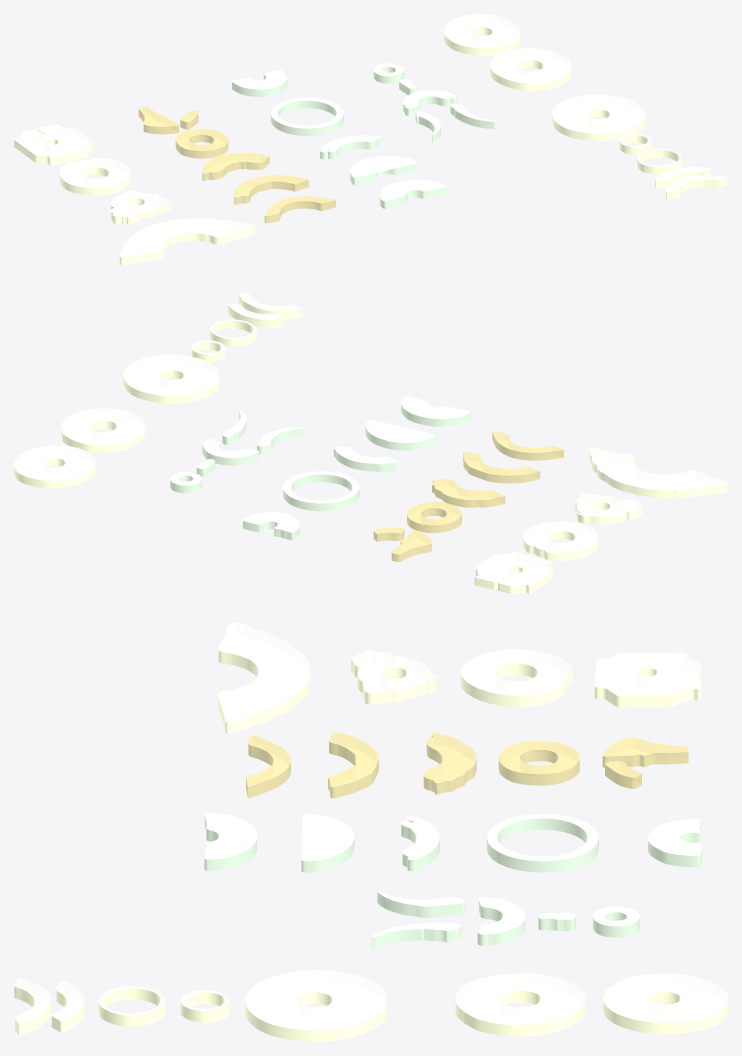
File: 组玉佩模型.fbx
The picture shows the model from 3 angles, top to bottom: view 1: azimuth 30°, elevation 25°; view 2: azimuth 150°, elevation 25°; view 3: azimuth 270°, elevation 25°; orthographic projection. The views are drawn at different scales.
Visible parts, largest first — view 1: Shape140, Shape32, Shape141, Shape142, Shape139, Shape138, Shape135, Shape137, Shape136, Shape63, Shape62, Shape70 (+13 smaller); view 2: Shape140, Shape32, Shape141, Shape142, Shape139, Shape138, Shape135, Shape137, Shape62, Shape136, Shape63, Shape70 (+12 smaller); view 3: Shape140, Shape32, Shape141, Shape142, Shape139, Shape138, Shape135, Shape137, Shape136, Shape62, Shape63, Shape70 (+15 smaller).
Part boxes in pixels (x1=…): Shape140: x1=552, y1=94, x2=645, y2=140; Shape32: x1=119, y1=218, x2=256, y2=264; Shape141: x1=490, y1=48, x2=571, y2=90; Shape142: x1=444, y1=14, x2=520, y2=55; Shape139: x1=14, y1=124, x2=93, y2=165; Shape138: x1=59, y1=158, x2=130, y2=195; Shape135: x1=270, y1=97, x2=343, y2=135; Shape137: x1=111, y1=190, x2=171, y2=224; Shape136: x1=175, y1=129, x2=228, y2=158; Shape63: x1=379, y1=179, x2=446, y2=208; Shape62: x1=350, y1=156, x2=416, y2=185; Shape70: x1=202, y1=152, x2=269, y2=180; Shape140: x1=123, y1=354, x2=219, y2=403; Shape32: x1=589, y1=447, x2=727, y2=497; Shape141: x1=61, y1=408, x2=145, y2=452; Shape142: x1=14, y1=445, x2=95, y2=488; Shape139: x1=474, y1=552, x2=553, y2=593; Shape138: x1=523, y1=521, x2=598, y2=560; Shape135: x1=283, y1=471, x2=359, y2=511; Shape137: x1=575, y1=493, x2=642, y2=524; Shape62: x1=365, y1=419, x2=435, y2=450; Shape136: x1=407, y1=502, x2=461, y2=533; Shape63: x1=401, y1=395, x2=470, y2=426; Shape70: x1=432, y1=478, x2=505, y2=507; Shape140: x1=245, y1=970, x2=386, y2=1041; Shape32: x1=217, y1=622, x2=310, y2=733; Shape141: x1=455, y1=973, x2=586, y2=1036; Shape142: x1=603, y1=973, x2=727, y2=1034; Shape139: x1=594, y1=652, x2=701, y2=707; Shape138: x1=460, y1=649, x2=572, y2=707; Shape135: x1=486, y1=814, x2=598, y2=872; Shape137: x1=351, y1=650, x2=436, y2=704; Shape136: x1=498, y1=740, x2=579, y2=785; Shape62: x1=301, y1=814, x2=354, y2=872; Shape63: x1=204, y1=812, x2=256, y2=870; Shape70: x1=423, y1=732, x2=476, y2=794.
Size of the model in its own units: 195 by 2.52 by 144.
